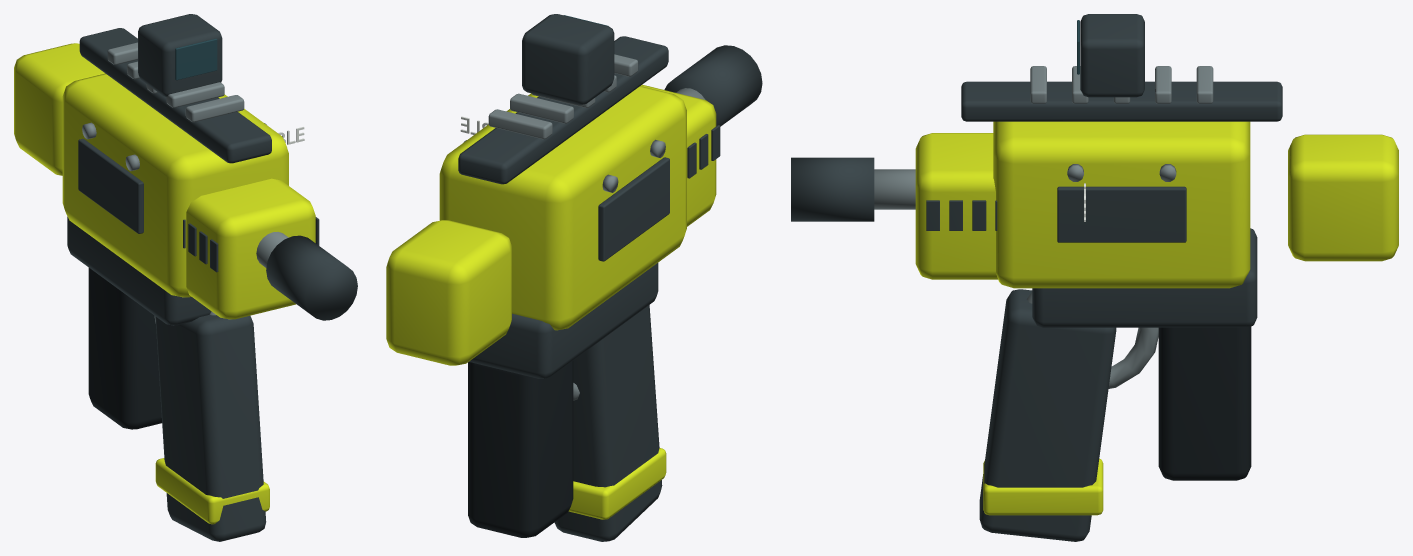
The model's file is sable_smg_hazard.glb.
The picture shows the model from 3 angles, left to right: view 1: azimuth 30°, elevation 25°; view 2: azimuth 150°, elevation 25°; view 3: azimuth 270°, elevation 25°; orthographic projection. The views are drawn at different scales.
Visible parts, largest first — view 1: sable_smg_hazard; view 2: sable_smg_hazard; view 3: sable_smg_hazard.
Part boxes in pixels (x1=…): sable_smg_hazard: x1=14, y1=14, x2=357, y2=541; sable_smg_hazard: x1=386, y1=14, x2=762, y2=541; sable_smg_hazard: x1=791, y1=14, x2=1398, y2=541.
Size of the model in its own units: 0.2377 by 0.6045 by 0.6582.
